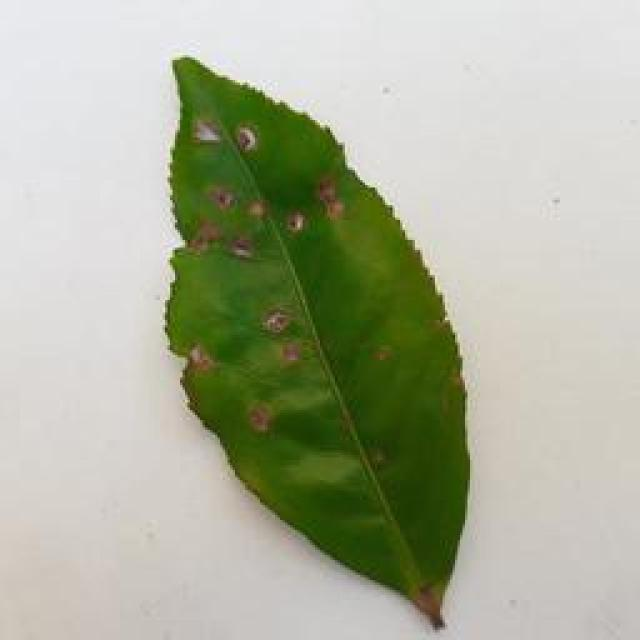Helopeltis: (129, 31, 492, 634)
